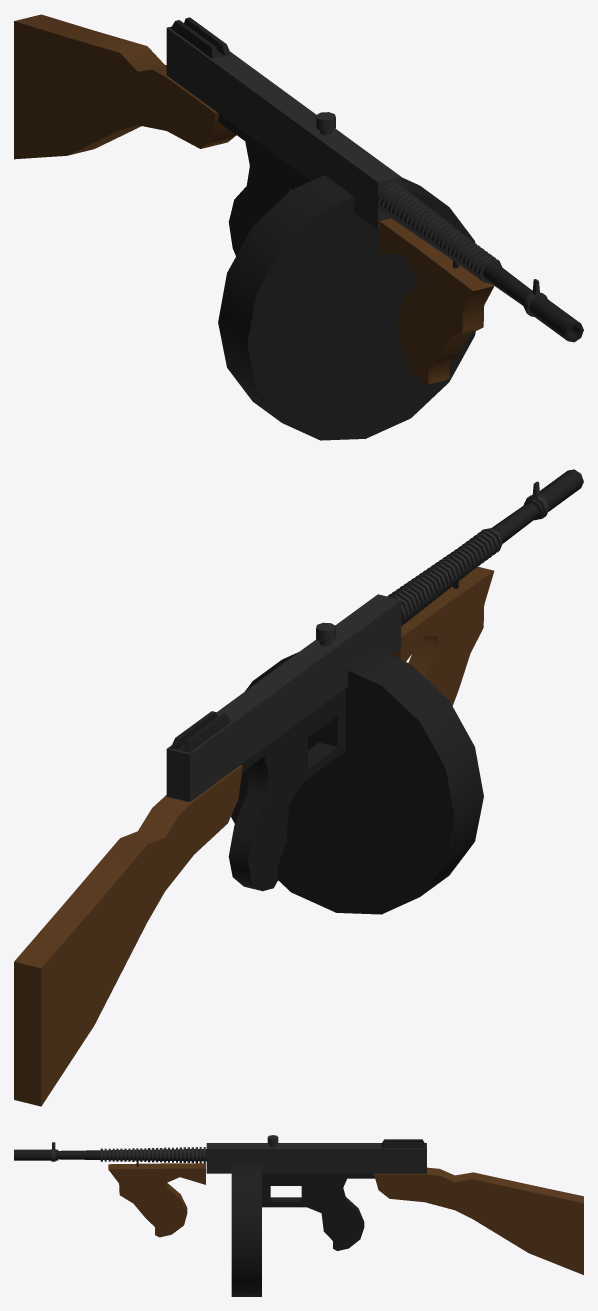
Rendered from Tompson2.fbx.
The picture shows the model from 3 angles, top to bottom: view 1: azimuth 30°, elevation 25°; view 2: azimuth 150°, elevation 25°; view 3: azimuth 270°, elevation 25°; orthographic projection. The views are drawn at different scales.
Visible parts, largest first — view 1: autogun; view 2: autogun; view 3: autogun.
Boxes of the visible parts, bbox=[...] form: autogun: bbox=[14, 14, 583, 440]; autogun: bbox=[14, 469, 583, 1106]; autogun: bbox=[14, 1135, 583, 1296].
Size of the model in its own units: 19.88 by 23.56 by 79.53.
